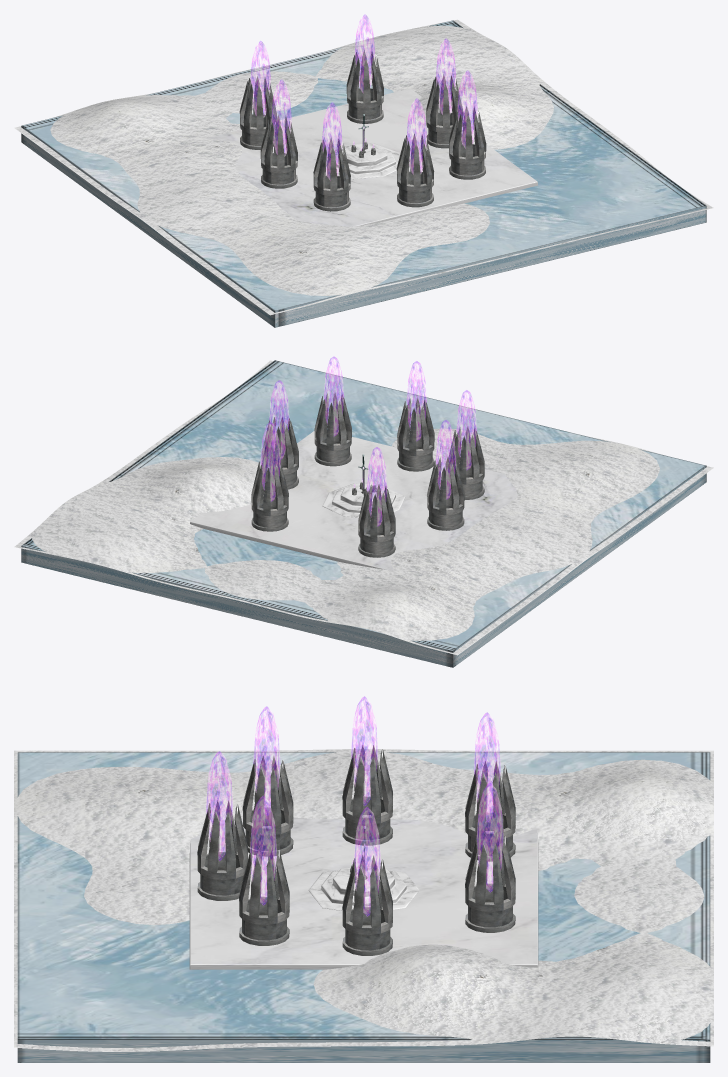
Rendered from winter.gltf.
3 views of the same model, one above another, from view 1: azimuth 30°, elevation 25°; view 2: azimuth 150°, elevation 25°; view 3: azimuth 270°, elevation 25° (orthographic). The views are drawn at different scales.
Visible parts, largest first — view 1: pPlane2, pCube3, pCube2, pTorus3, pTorus8, pTorus5, pTorus6, pTorus9, pTorus4, pTorus10, pCube1, pPlatonic6 (+6 smaller); view 2: pPlane2, pCube3, pCube2, pTorus9, pTorus4, pTorus8, pTorus6, pTorus5, pTorus3, pTorus10, pCube1, pPlatonic2 (+6 smaller); view 3: pPlane2, pCube3, pCube2, pTorus6, pTorus10, pTorus5, pTorus8, pTorus3, pTorus9, pTorus4, pCube1, pPlatonic1 (+6 smaller).
Part boxes in pixels (box(x1,y1,x2,y2)): pPlane2: box(14, 19, 713, 315); pCube3: box(21, 20, 706, 327); pCube2: box(207, 88, 537, 226); pTorus3: box(313, 138, 350, 211); pTorus8: box(260, 115, 297, 188); pTorus5: box(449, 106, 486, 179); pTorus6: box(346, 50, 383, 123); pTorus9: box(396, 134, 434, 207); pTorus4: box(239, 76, 276, 149); pTorus10: box(426, 74, 463, 148); pCube1: box(326, 143, 399, 179); pPlatonic6: box(271, 79, 291, 156); pPlane2: box(14, 360, 713, 655); pCube3: box(21, 360, 706, 667); pCube2: box(190, 431, 517, 570); pTorus9: box(397, 398, 434, 471); pTorus4: box(358, 484, 395, 557); pTorus8: box(427, 457, 464, 530); pTorus6: box(251, 458, 288, 531); pTorus5: box(314, 393, 351, 466); pTorus3: box(448, 427, 484, 499); pTorus10: box(261, 417, 298, 489); pCube1: box(322, 483, 405, 517); pPlatonic2: box(367, 447, 386, 526); pPlane2: box(14, 749, 713, 1051); pCube3: box(17, 752, 710, 1062); pCube2: box(189, 817, 538, 969); pTorus6: box(465, 832, 515, 932); pTorus10: box(342, 855, 392, 955); pTorus5: box(239, 845, 289, 945); pTorus8: box(342, 745, 392, 845); pTorus3: box(242, 756, 293, 856); pTorus9: box(197, 800, 247, 900); pTorus4: box(465, 761, 515, 861); pCube1: box(308, 866, 419, 910); pPlatonic1: box(253, 706, 279, 815).
Bounding box in the file's own units: 1275 × 338 × 1275.
9 materials, 8 textured.
